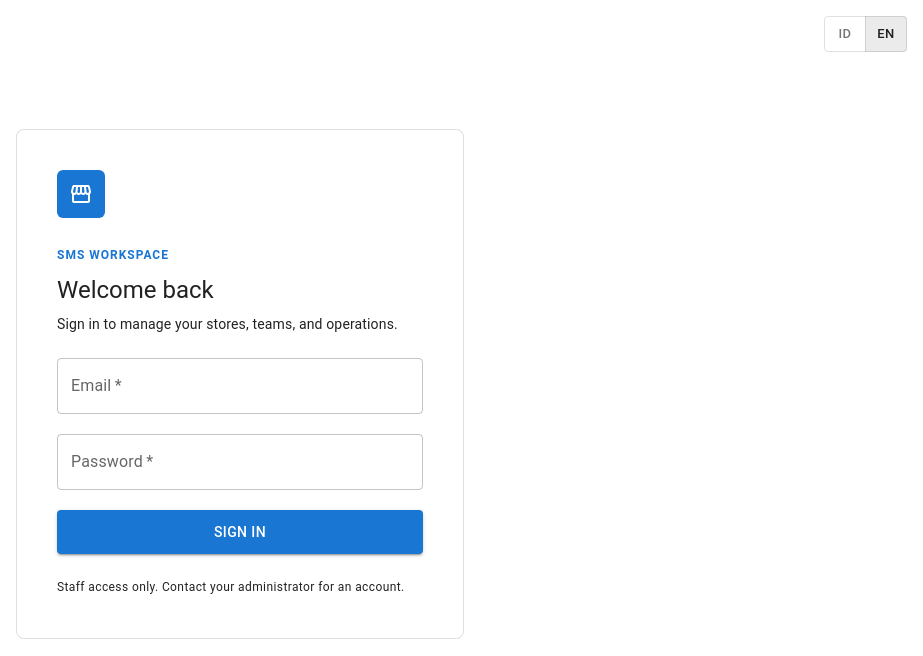
it: management sign-in localization › switches the login form language and remembers the selection
expect the heading "Welcome back" is shown: met, box [57,276,214,304]
Type "staff@example.com" into the field labelled "Email". click: (240, 386)
box: [57,358,423,414]
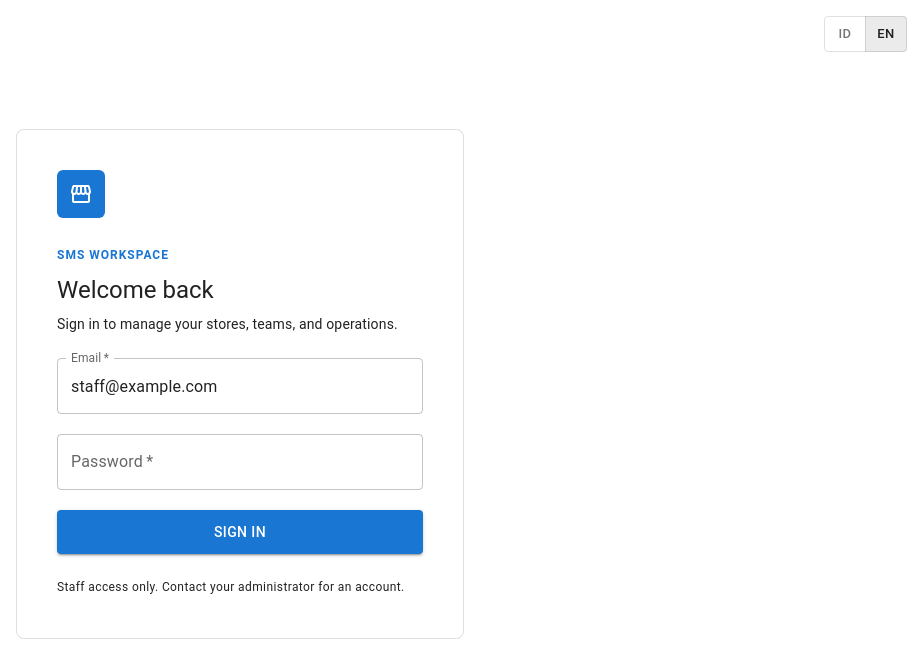
Click the button with aria-label "Indonesian". click: click(845, 34)
box: [824,16,866,52]
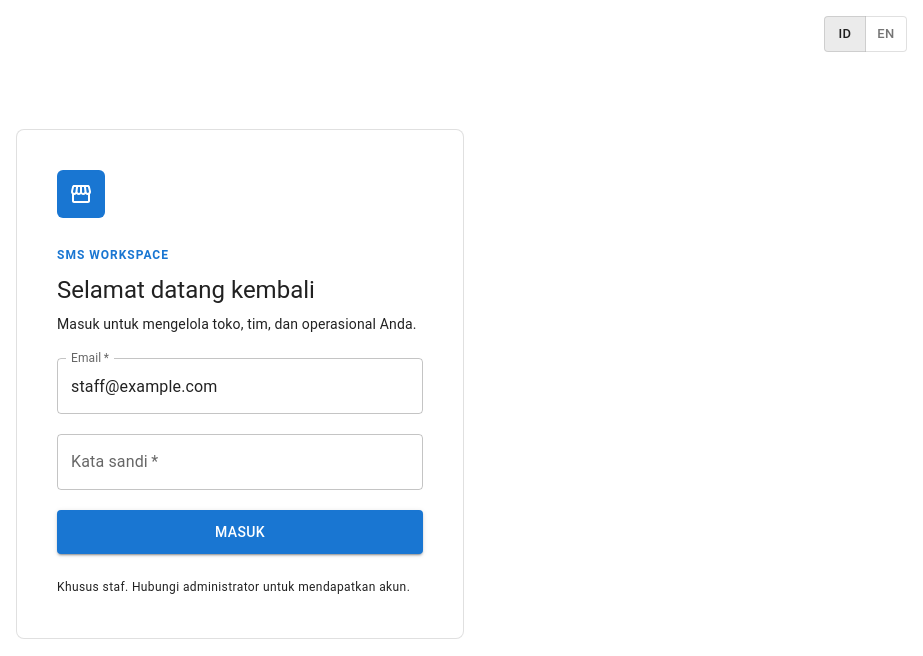
expect the password field labelled "Kata sandi *" is shown: met, box [57,434,423,490]
expect the heading "Selamat datang kembali" is shown: met, box [57,276,315,304]
